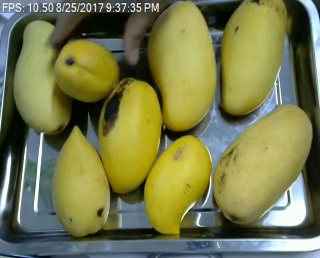Mango: (210, 102, 316, 221), (219, 0, 295, 119), (147, 1, 216, 128), (96, 75, 166, 195), (51, 122, 119, 237), (145, 128, 214, 235), (13, 17, 72, 133), (54, 36, 121, 102)
